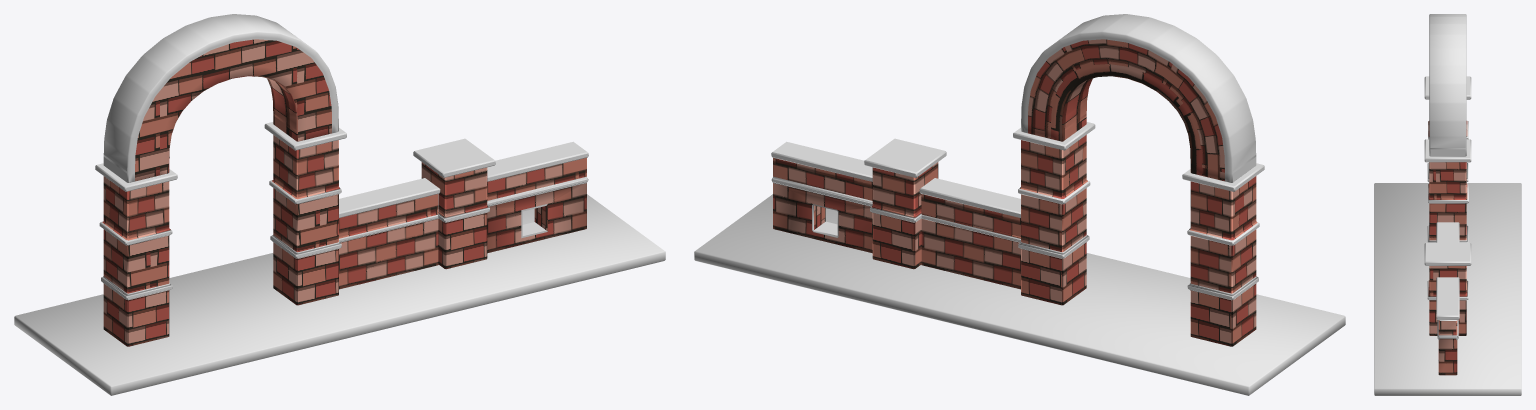
File: Brick_wall.fbx
3 renders of one model, left to right at view 1: azimuth 30°, elevation 25°; view 2: azimuth 150°, elevation 25°; view 3: azimuth 270°, elevation 25°, orthographic. The views are drawn at different scales.
Parts seen in each view (by area): view 1: Brick-wall; view 2: Brick-wall; view 3: Brick-wall.
Part boxes in pixels (x1,y1,x2,y2): Brick-wall: (14, 14, 665, 395); Brick-wall: (694, 14, 1345, 395); Brick-wall: (1374, 14, 1521, 395).
Size of the model in its own units: 710 by 362 by 215.
